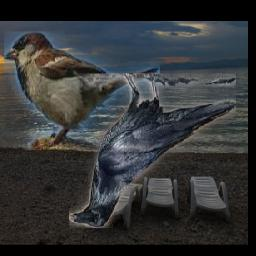Crow: (70, 74, 237, 229)
Sparrow: (4, 31, 160, 150)
